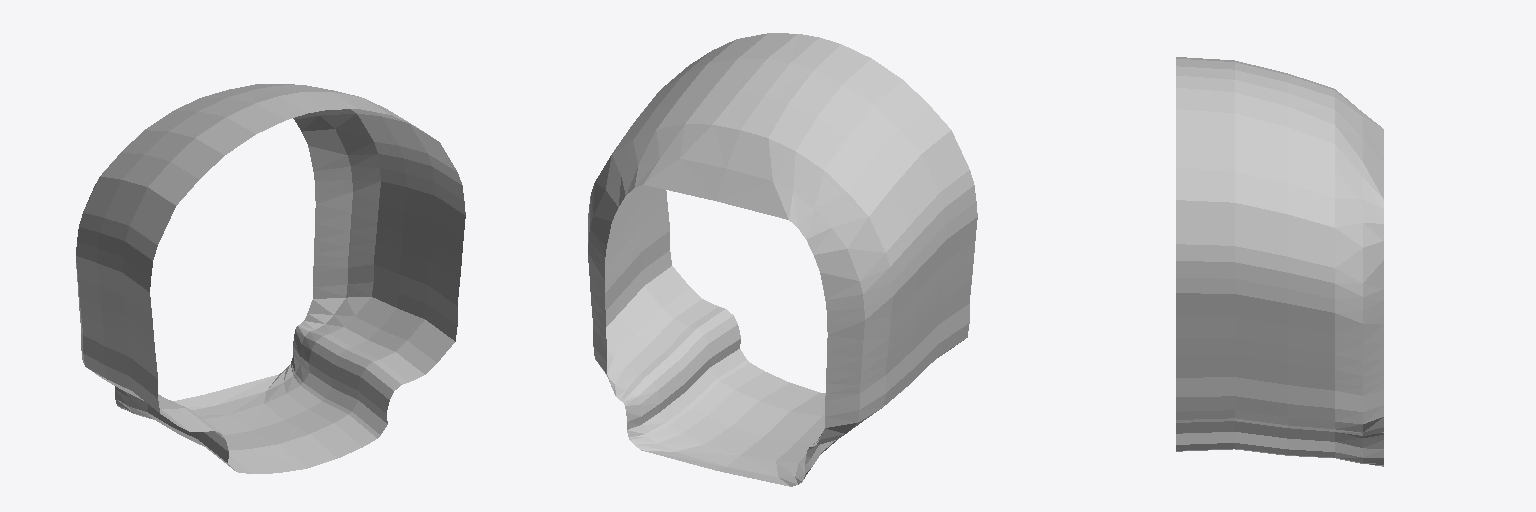
The model's file is Skull.obj.
3 renders of one model, left to right at view 1: azimuth 30°, elevation 25°; view 2: azimuth 150°, elevation 25°; view 3: azimuth 270°, elevation 25°, orthographic.
Parts seen in each view (by area): view 1: Plane; view 2: Plane; view 3: Plane.
Part boxes in pixels (x1,y1,x2,y2): Plane: (76,84,465,473); Plane: (588,33,977,486); Plane: (1176,57,1383,466).
Size of the model in its own units: 4.08 by 4.46 by 2.33.